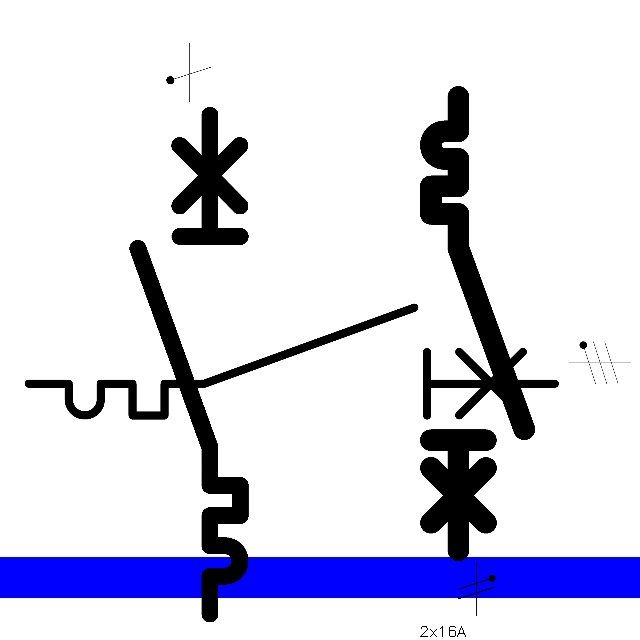interruptor_termomagnetico: (15, 294, 568, 429), (125, 102, 253, 626), (419, 85, 536, 562)
